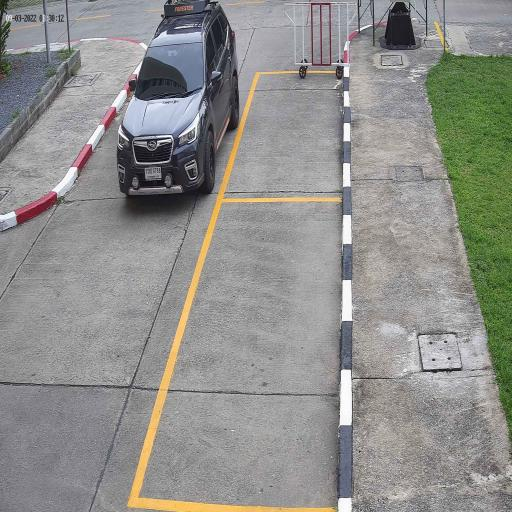car: (117, 0, 238, 198)
